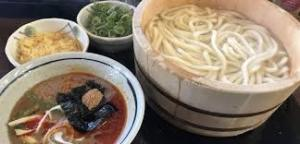kamaage: (127, 1, 300, 138)
